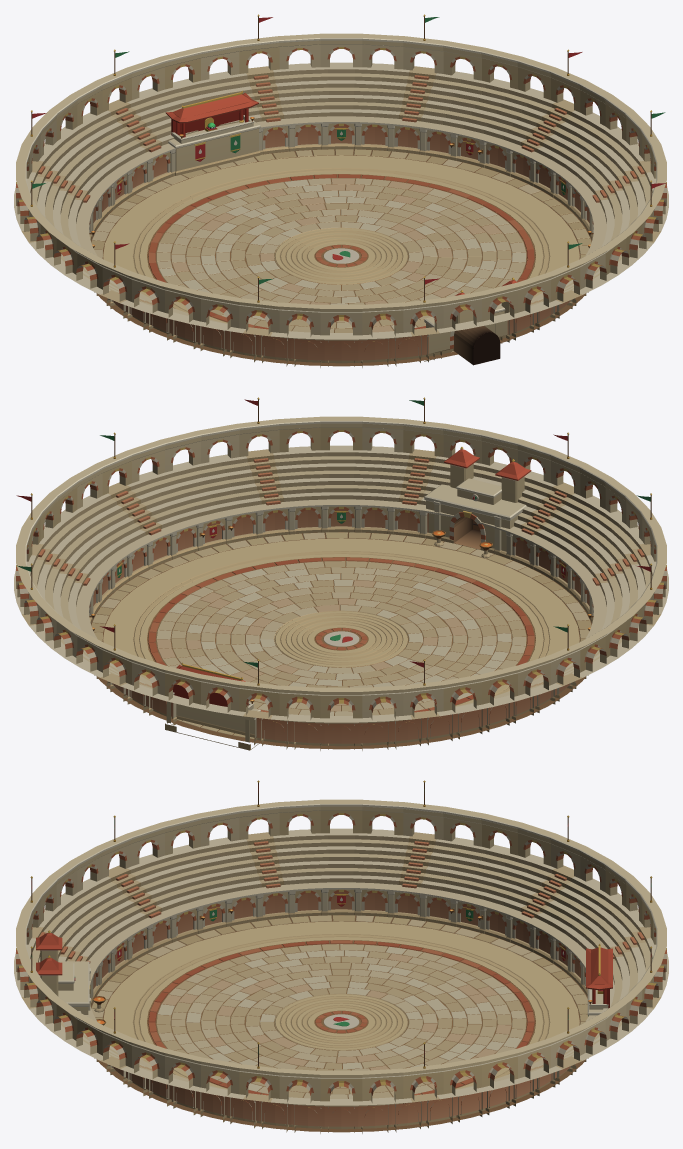
File: Dojo_Arena.glb
The picture shows the model from 3 angles, top to bottom: view 1: azimuth 30°, elevation 25°; view 2: azimuth 150°, elevation 25°; view 3: azimuth 270°, elevation 25°; orthographic projection.
Parts seen in each view (by area): view 1: Walls, Floor, Backdrop, Props; view 2: Walls, Floor, Backdrop, Props; view 3: Walls, Floor, Backdrop, Props.
Boxes of the visible parts, x1,y1,x2,y2 form: Walls: [14, 62, 668, 367]; Floor: [91, 149, 591, 366]; Backdrop: [16, 14, 666, 336]; Props: [89, 90, 593, 347]; Walls: [14, 445, 668, 750]; Floor: [91, 532, 591, 749]; Backdrop: [16, 397, 666, 719]; Props: [89, 511, 593, 710]; Walls: [14, 828, 668, 1133]; Floor: [91, 915, 587, 1132]; Backdrop: [16, 780, 666, 1102]; Props: [92, 894, 612, 1025].
Bounding box in the file's own units: 110 × 21.05 × 109.
